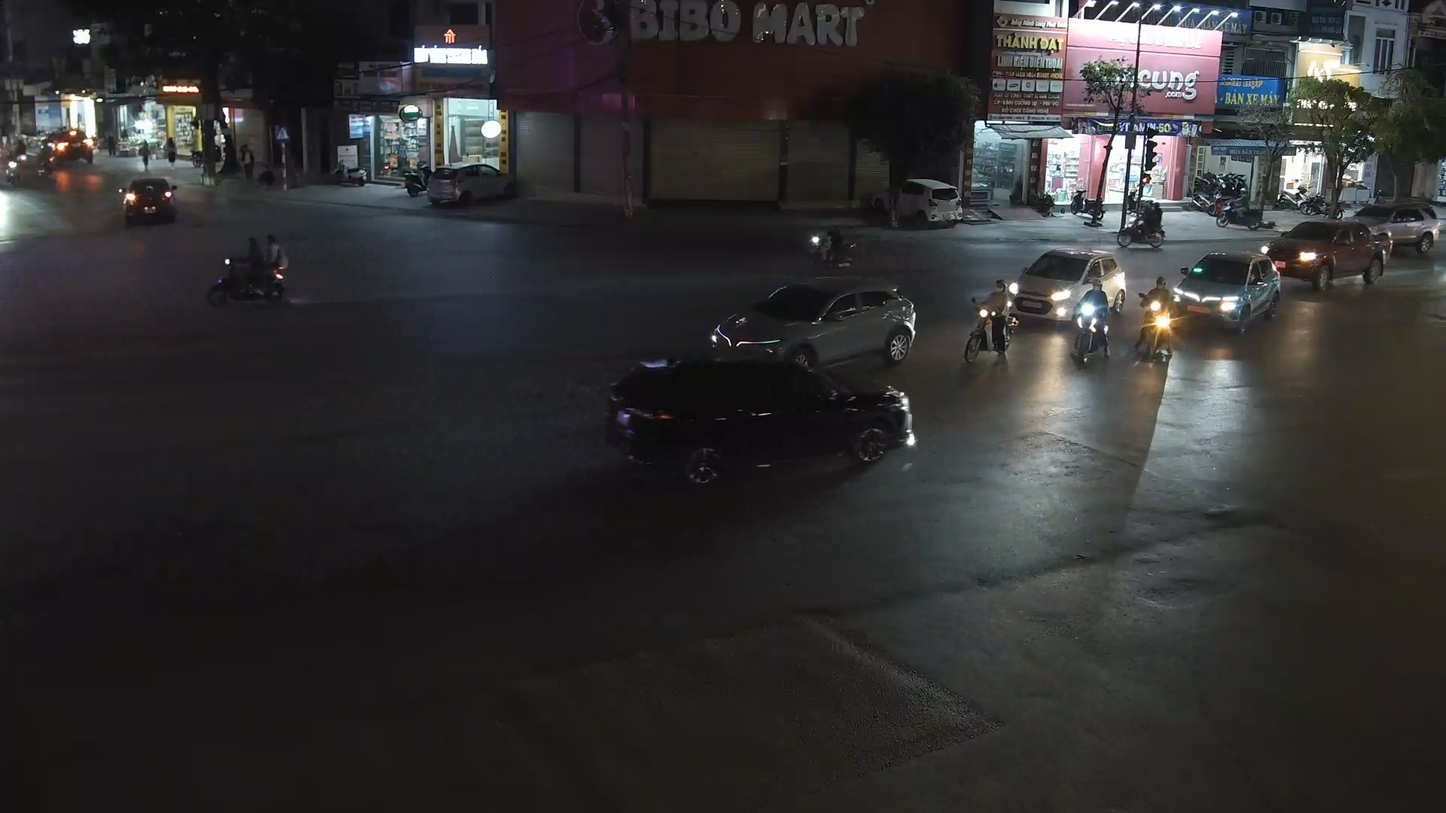car: (608, 354, 914, 489), (712, 280, 920, 371), (1172, 246, 1283, 335), (1268, 215, 1386, 295), (1011, 244, 1126, 325), (1339, 197, 1440, 258), (119, 172, 180, 226)
motorbike: (204, 230, 293, 312), (960, 277, 1017, 367), (1134, 275, 1178, 367), (1071, 276, 1113, 368), (1115, 200, 1167, 251)
